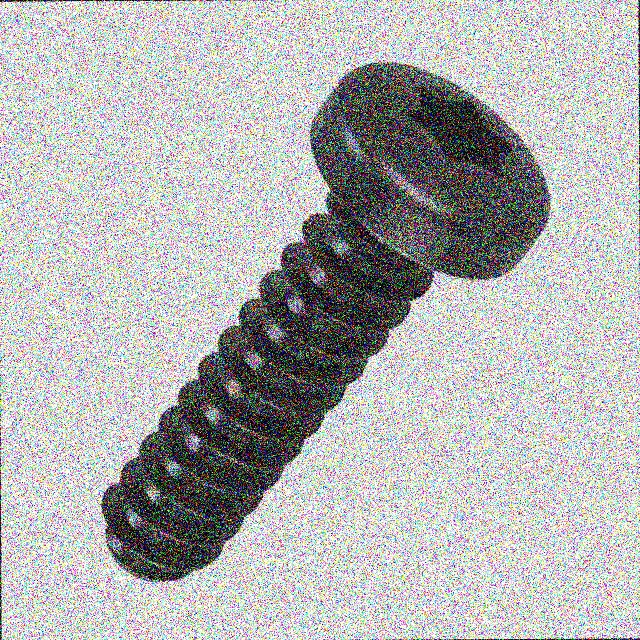torx: (308, 58, 553, 280)
